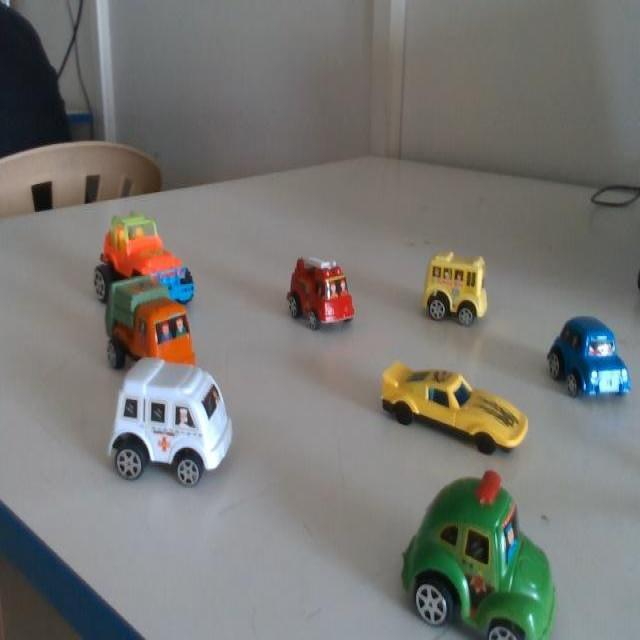car: (117, 334, 262, 514), (426, 478, 570, 638), (395, 351, 523, 468), (122, 206, 206, 314), (416, 245, 501, 343), (127, 266, 194, 382), (284, 243, 357, 349), (561, 313, 633, 407)
